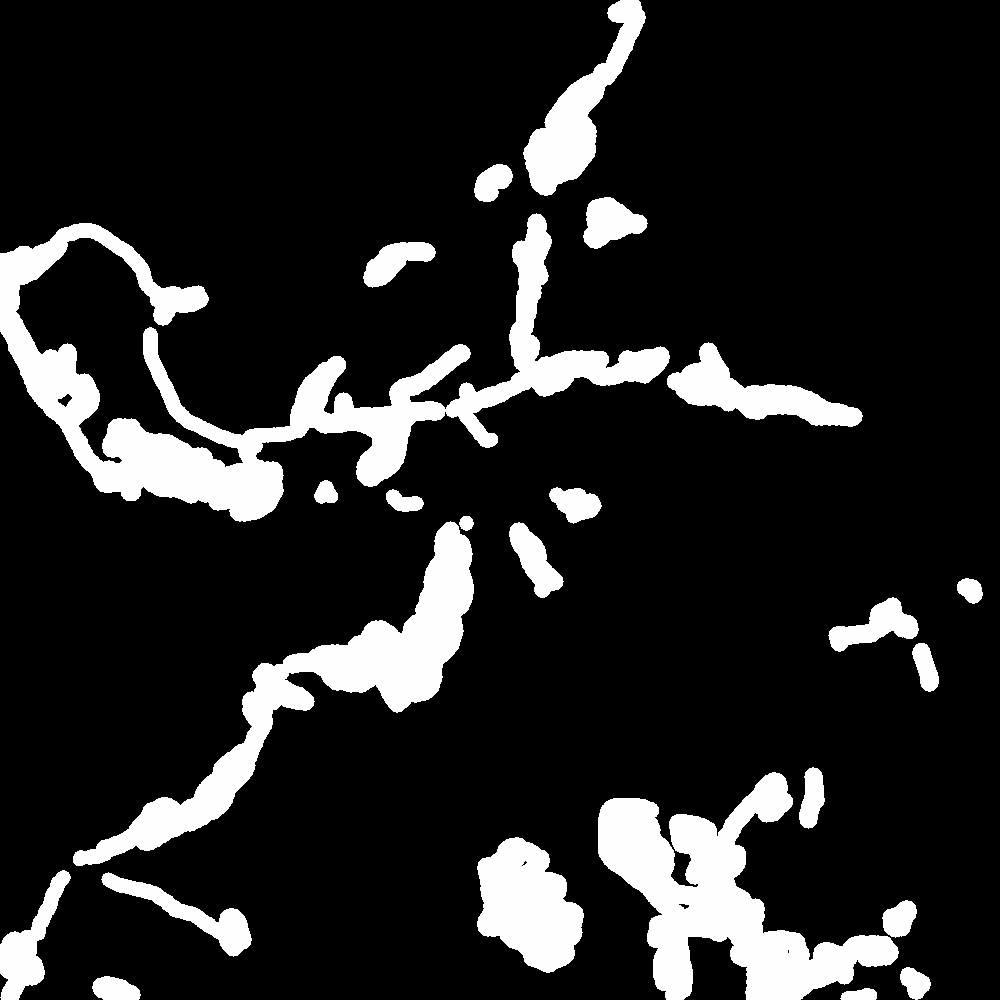illegal: (71, 522, 482, 874), (308, 1, 654, 359), (475, 752, 930, 1000), (250, 345, 984, 482), (4, 219, 302, 526), (103, 869, 321, 972), (824, 563, 1000, 689), (3, 906, 134, 1000)
